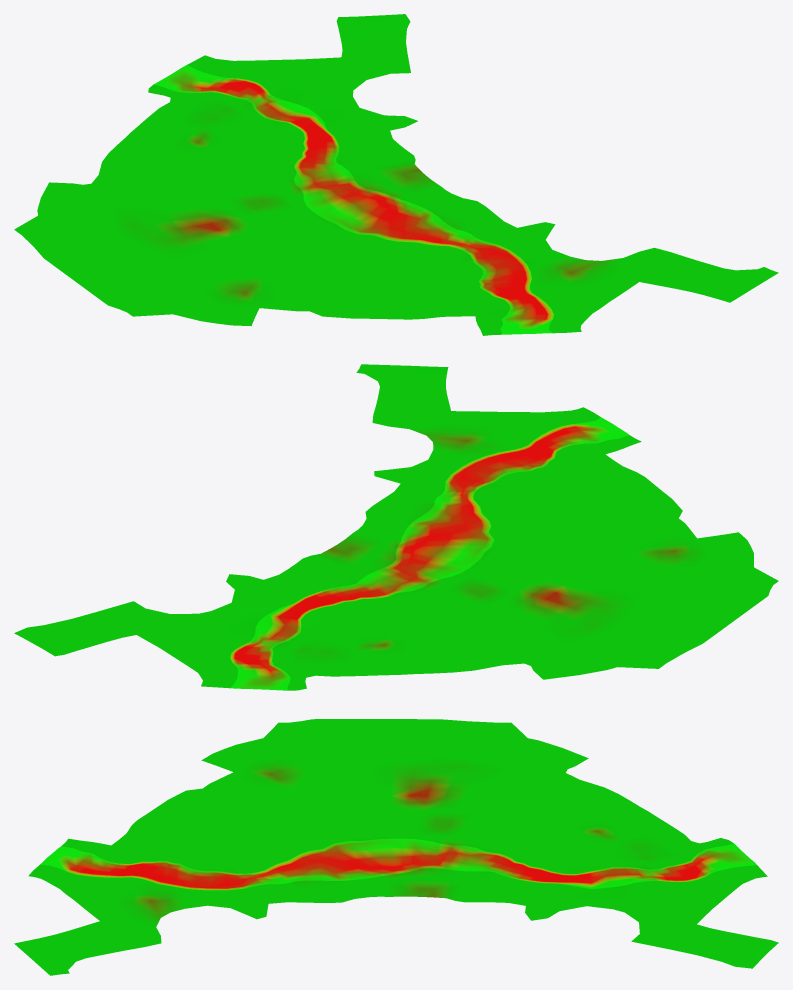
File: pref_sm_beach_tech_hunt_beta_01_grass_path_lv3.fbx
3 views of the same model, one above another, from view 1: azimuth 30°, elevation 25°; view 2: azimuth 150°, elevation 25°; view 3: azimuth 270°, elevation 25° (orthographic). The views are drawn at different scales.
Parts seen in each view (by area): view 1: pref_sm_beach_tech_hunt_beta_01_grass_path_lv3; view 2: pref_sm_beach_tech_hunt_beta_01_grass_path_lv3; view 3: pref_sm_beach_tech_hunt_beta_01_grass_path_lv3.
Boxes of the visible parts, x1,y1,x2,y2 form: pref_sm_beach_tech_hunt_beta_01_grass_path_lv3: (14,14,778,335); pref_sm_beach_tech_hunt_beta_01_grass_path_lv3: (14,364,778,690); pref_sm_beach_tech_hunt_beta_01_grass_path_lv3: (14,719,778,975).
Size of the model in its own units: 39.36 by 0.1532 by 49.58.
